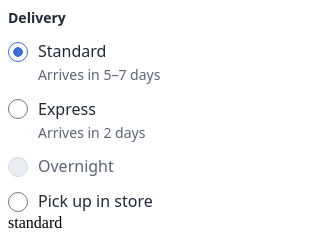
RadioGroup › follows the value prop when controlled
This screenshot has width=320, height=249.
Click the radio button labelled "Pick up in store". click: (18, 202)
box: [8,192,28,212]
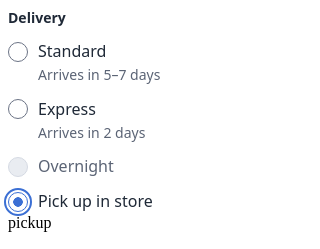
Result: the radio button labelled "Pick up in store" is checked at [8,192,28,212]
Result: the text "pickup" is shown at [8,214,52,231]
